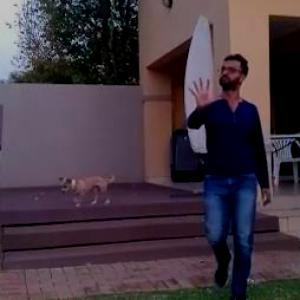follow_hand: (184, 71, 219, 112)
